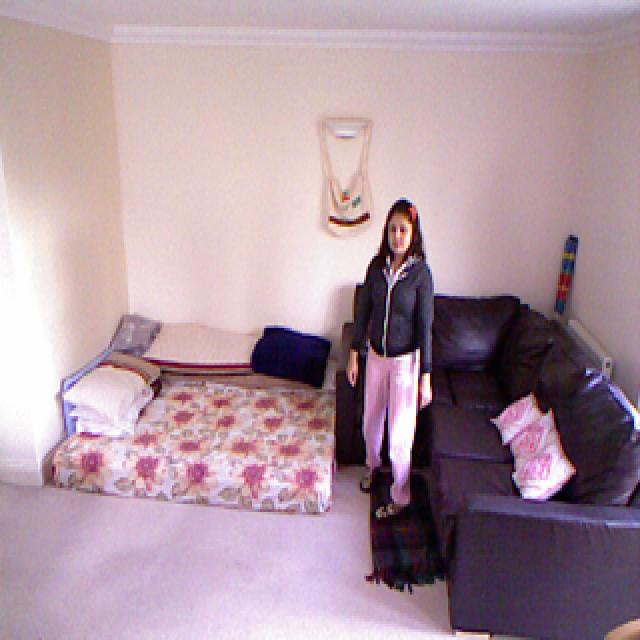standing: (344, 201, 436, 519)
